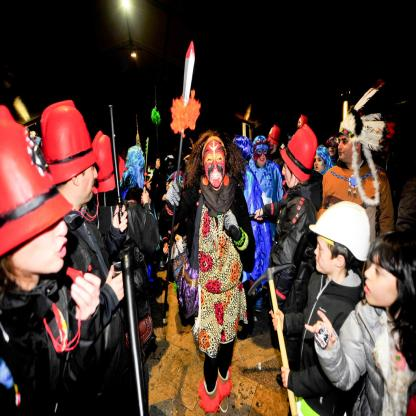Helmet: (37, 92, 94, 195), (311, 200, 371, 264)
